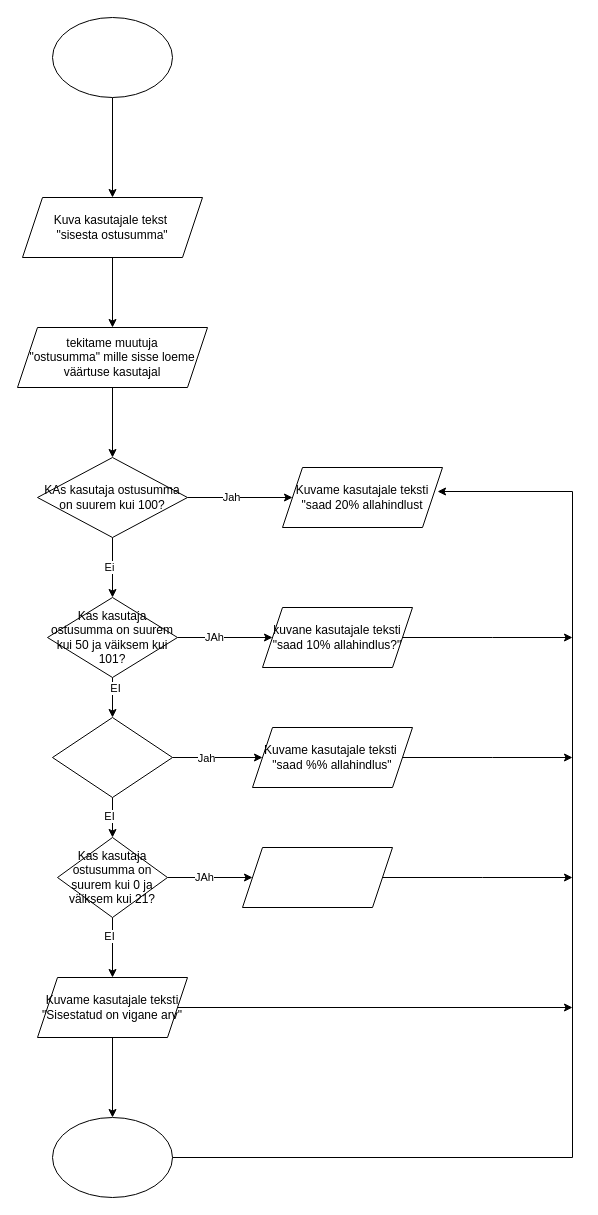
Some shapes in this 598 by 1215 pixel diagram are drawn without their labels. Here are the shapes that lost their labels. From the top down, the box of each, then its label:
(52, 16, 172, 98): Algus
(52, 716, 172, 798): Kas kasutaja ostusumma on suurem kui 20 ja väiksem on 51?
(242, 846, 392, 908): Kuvame kasutajale teksti "allahindlust ei saa"
(52, 1116, 172, 1198): Lõpp
